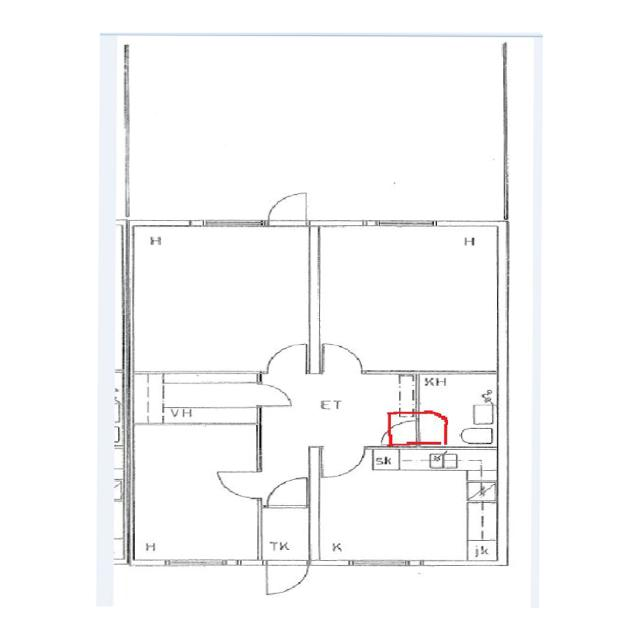door: (260, 188, 316, 230), (259, 557, 313, 598), (318, 338, 370, 374), (262, 339, 311, 377), (209, 466, 262, 501), (319, 444, 368, 480), (265, 475, 311, 509), (253, 379, 297, 410)
window: (345, 555, 431, 573)
zone: (123, 222, 315, 374), (314, 221, 504, 374), (312, 445, 500, 566), (125, 416, 265, 564), (386, 372, 498, 450), (411, 371, 498, 414)
